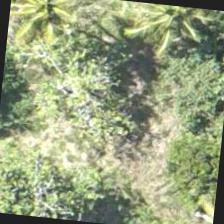Kelapa_Sawit: (129, 2, 223, 72), (7, 0, 78, 49)
